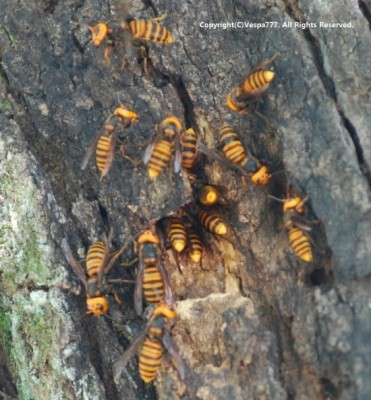asian_giant_hornet: (84, 15, 176, 66), (129, 300, 182, 385), (85, 105, 143, 182), (213, 119, 274, 190), (125, 227, 174, 311), (76, 229, 119, 319), (225, 55, 282, 115), (277, 188, 315, 269), (142, 115, 185, 184), (176, 124, 202, 178), (162, 212, 189, 252), (195, 208, 233, 234), (184, 230, 212, 265), (193, 180, 226, 207)
